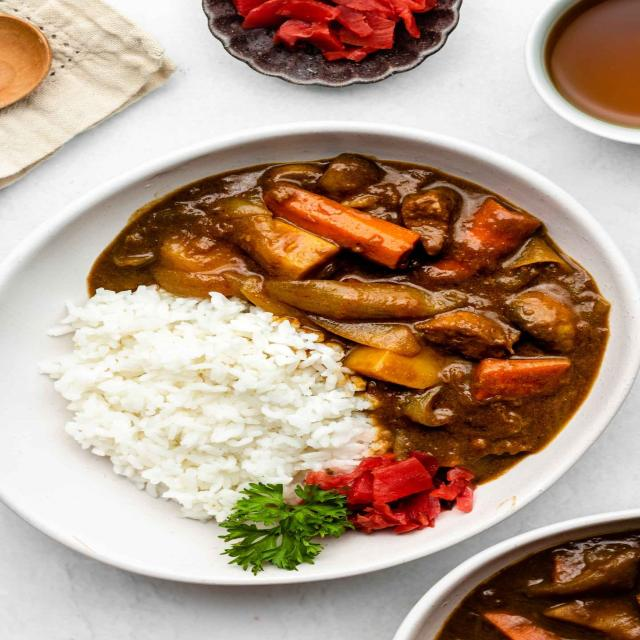Carbohydrate: (47, 284, 387, 488)
Curry: (0, 117, 640, 584)
Protein: (286, 263, 605, 351)
Vegetable: (233, 452, 467, 572), (154, 184, 412, 273)
